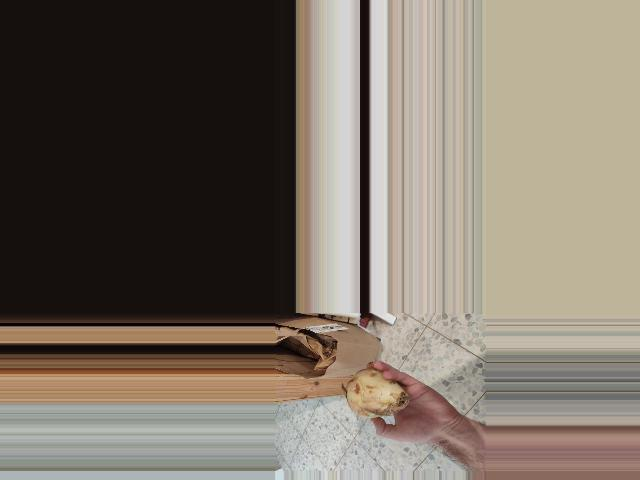onion: (343, 365, 414, 422)
